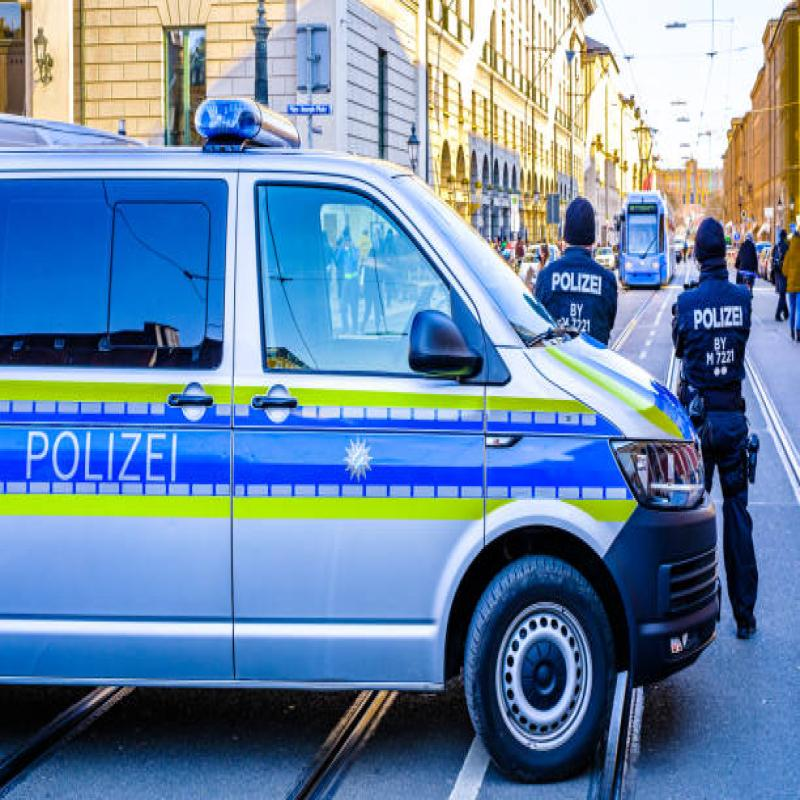AmbulanceSiren: (178, 65, 318, 160)
